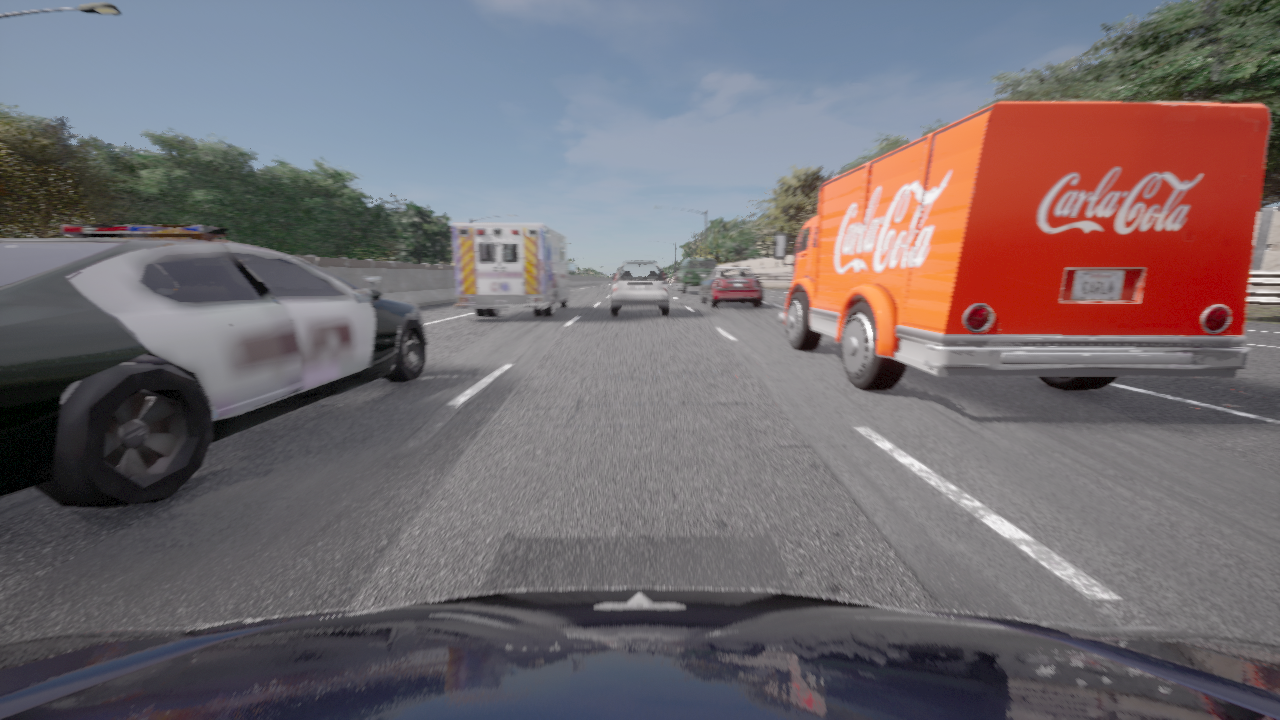cyclist: (0, 588, 1279, 719), (773, 101, 1270, 390), (0, 225, 427, 508), (452, 224, 576, 317), (610, 261, 669, 316), (700, 267, 762, 307), (676, 259, 716, 294), (675, 275, 676, 277)
